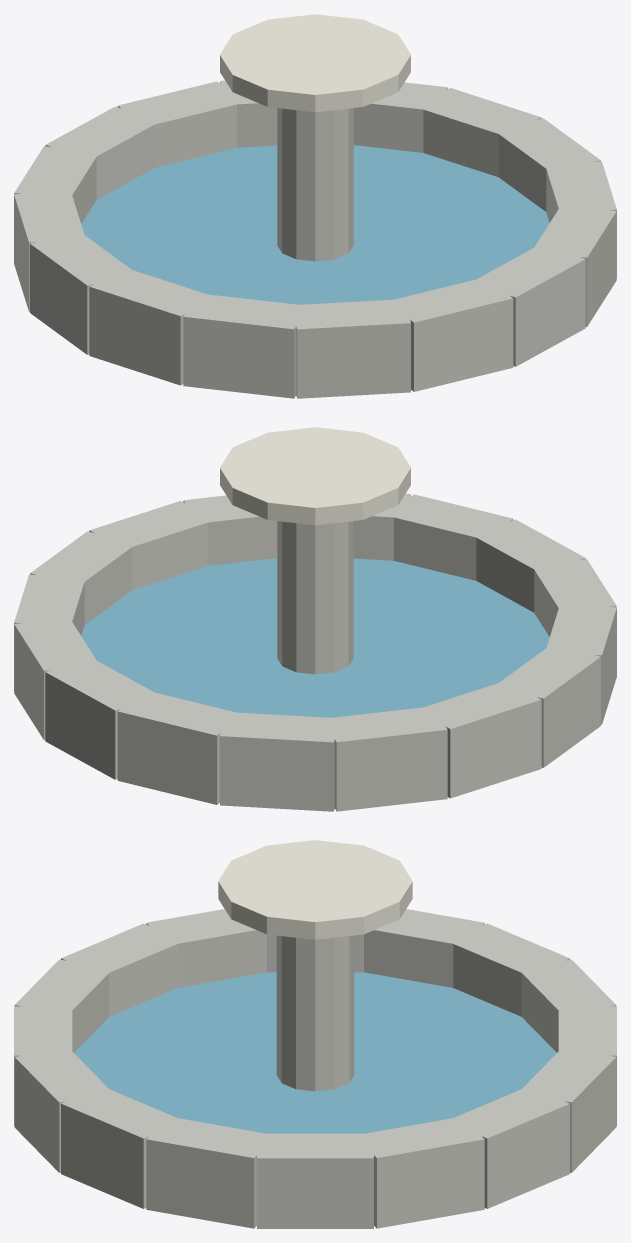
Rendered from prop_fountain.glb.
The picture shows the model from 3 angles, top to bottom: view 1: azimuth 30°, elevation 25°; view 2: azimuth 150°, elevation 25°; view 3: azimuth 270°, elevation 25°; orthographic projection.
Visible parts, largest first — view 1: prop_fountain-col; view 2: prop_fountain-col; view 3: prop_fountain-col.
Part boxes in pixels (<box>): prop_fountain-col: <box>14,14,616,398</box>; prop_fountain-col: <box>14,427,616,811</box>; prop_fountain-col: <box>14,840,616,1228</box>.
Bounding box in the file's own units: 3.87 × 1.56 × 3.88.
